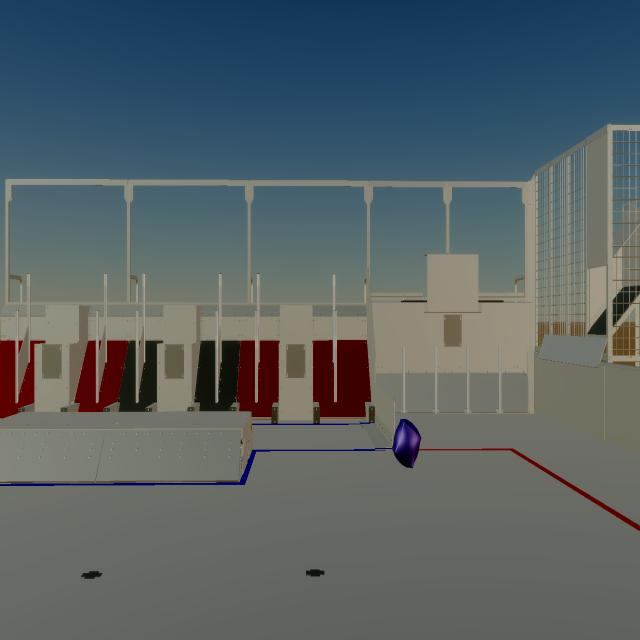frc_cube: (392, 419, 421, 468)
